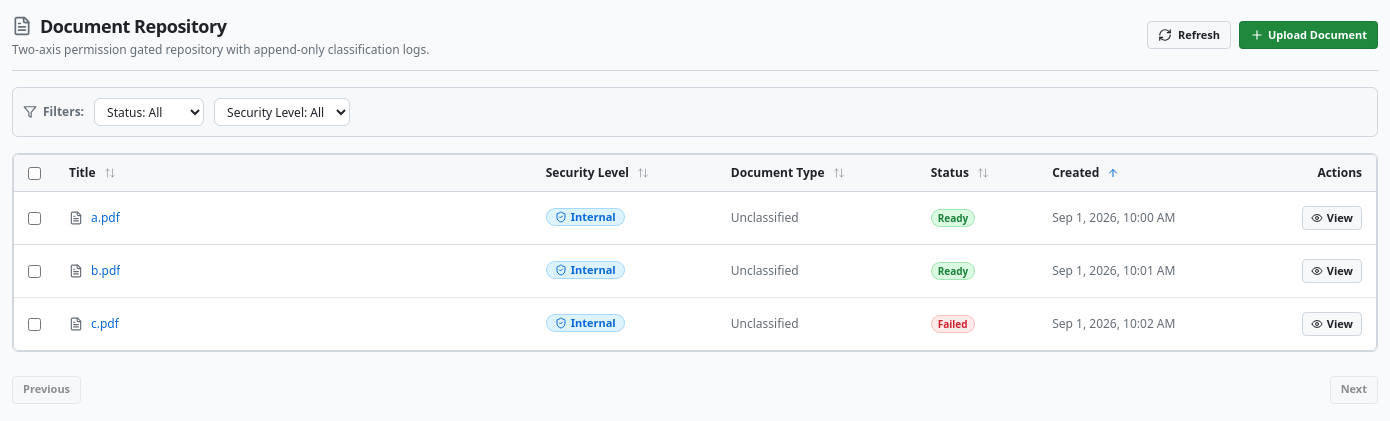
Test: DocumentsPage — selection › select-all checks every row, and unchecks them again
Expected: the table with test id "documents-table" is shown, [14, 155, 1376, 350]
Click the checkbox with test id "select-all": {"x": 34, "y": 174} [28, 167, 41, 180]
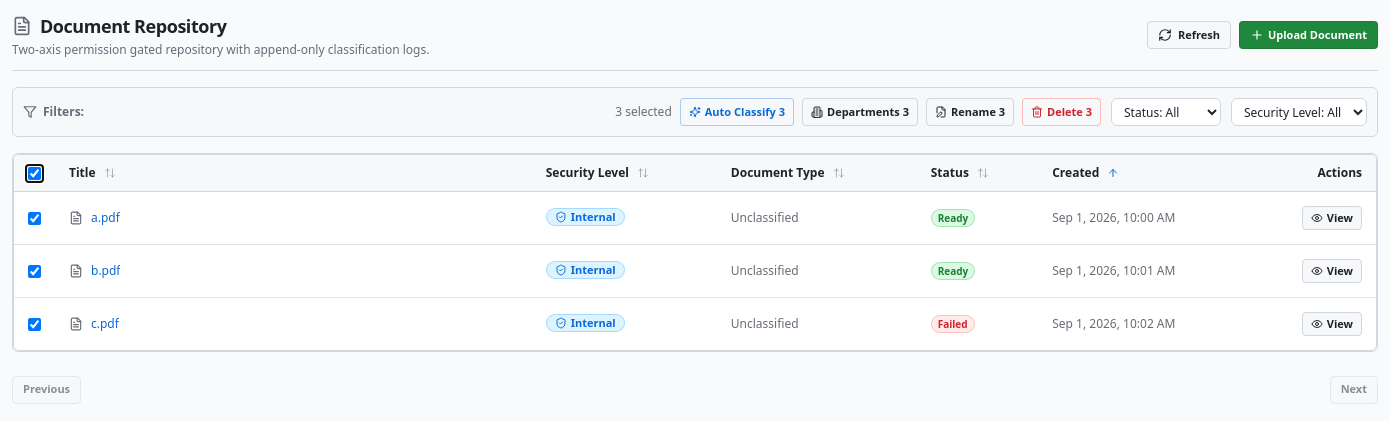
Result: the 1st checkbox with test id "row-select" is checked at [28, 212, 41, 225]
Result: the 2nd checkbox with test id "row-select" is checked at [28, 265, 41, 278]
Result: the 3rd checkbox with test id "row-select" is checked at [28, 318, 41, 331]
Click the checkbox with test id "select-all": {"x": 34, "y": 174} [28, 167, 41, 180]
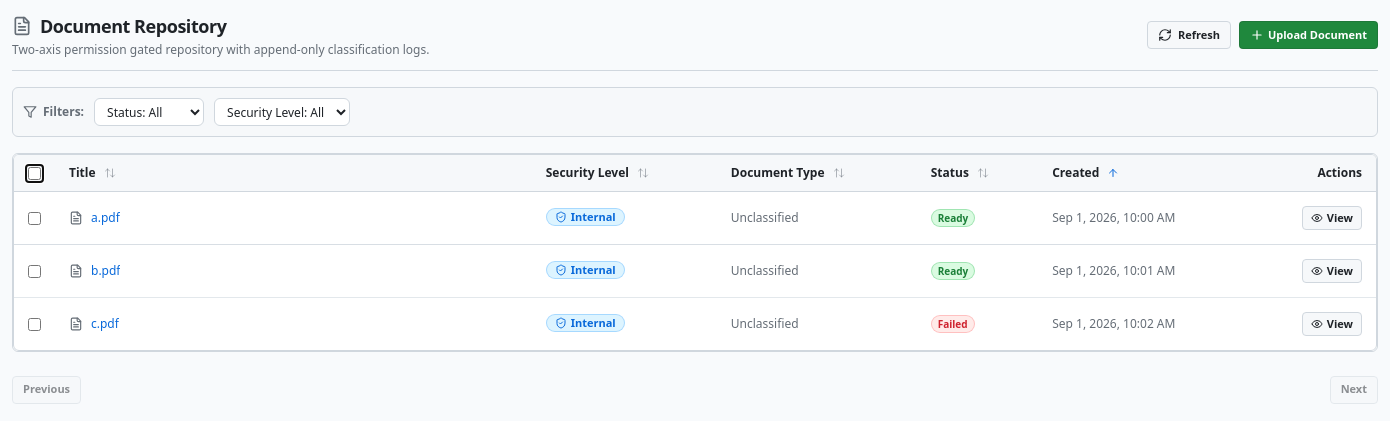
Result: the 1st checkbox with test id "row-select" is not checked at [28, 212, 41, 225]
Result: the 2nd checkbox with test id "row-select" is not checked at [28, 265, 41, 278]
Result: the 3rd checkbox with test id "row-select" is not checked at [28, 318, 41, 331]
